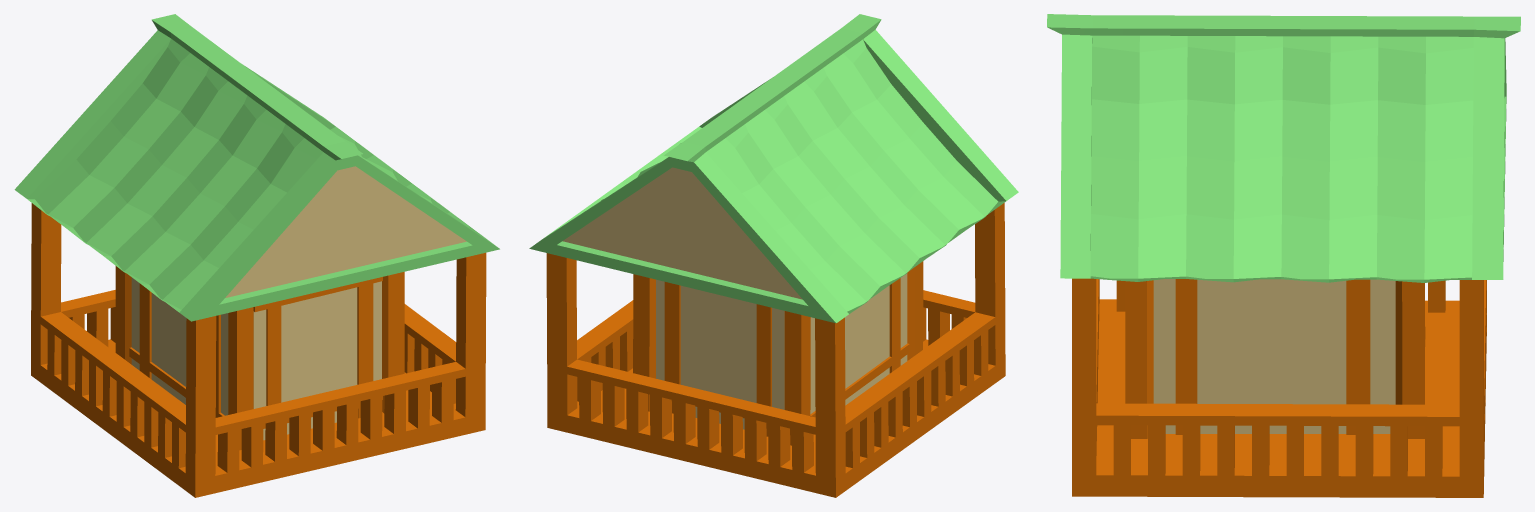
3 views of the same model, side by side, from view 1: azimuth 30°, elevation 25°; view 2: azimuth 150°, elevation 25°; view 3: azimuth 270°, elevation 25° (orthographic). The views are drawn at different scales.
Visible parts, largest first — view 1: Casa, Cube.001, Cube; view 2: Casa, Cube.001, Cube; view 3: Casa, Cube.001, Cube.
Boxes of the visible parts, <box> form: Casa: <box>14,14,499,321</box>; Cube.001: <box>31,203,486,497</box>; Cube: <box>115,266,404,450</box>; Casa: <box>529,14,1018,323</box>; Cube.001: <box>546,203,1005,497</box>; Cube: <box>633,261,923,445</box>; Casa: <box>1047,14,1520,282</box>; Cube.001: <box>1072,278,1486,497</box>; Cube: <box>1125,279,1425,438</box>.
Bounding box in the file's own units: 1.29 × 1.25 × 1.38.
